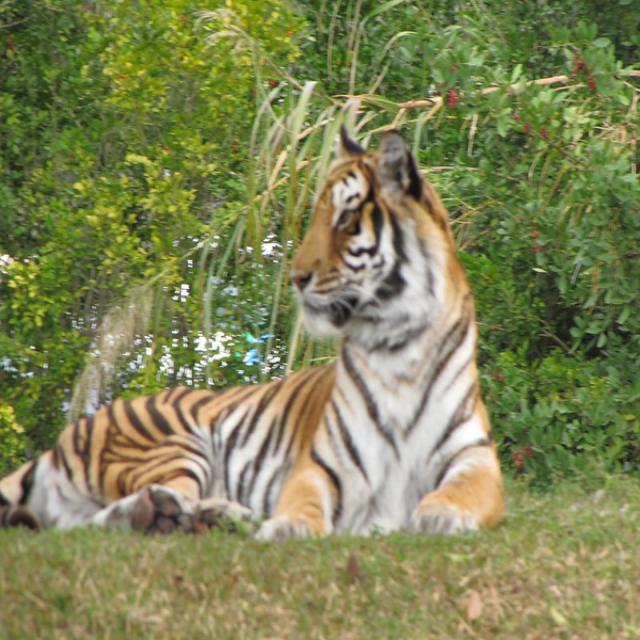Tiger: (0, 123, 508, 543)
